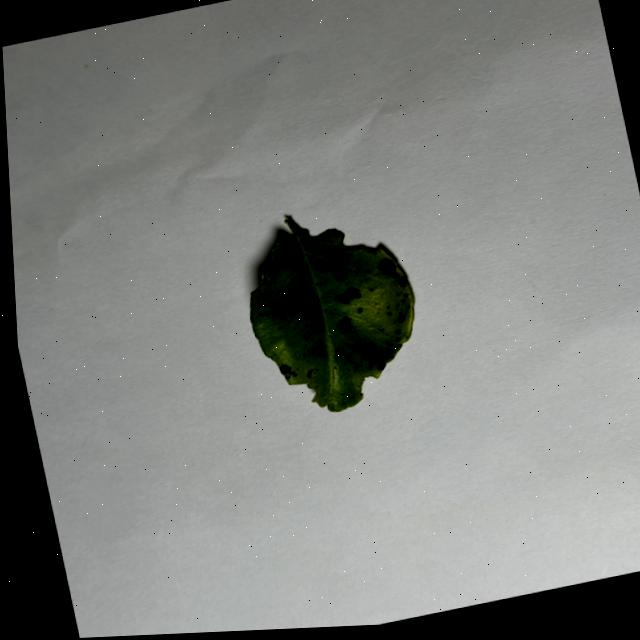sooty_mold: (251, 218, 415, 411)
